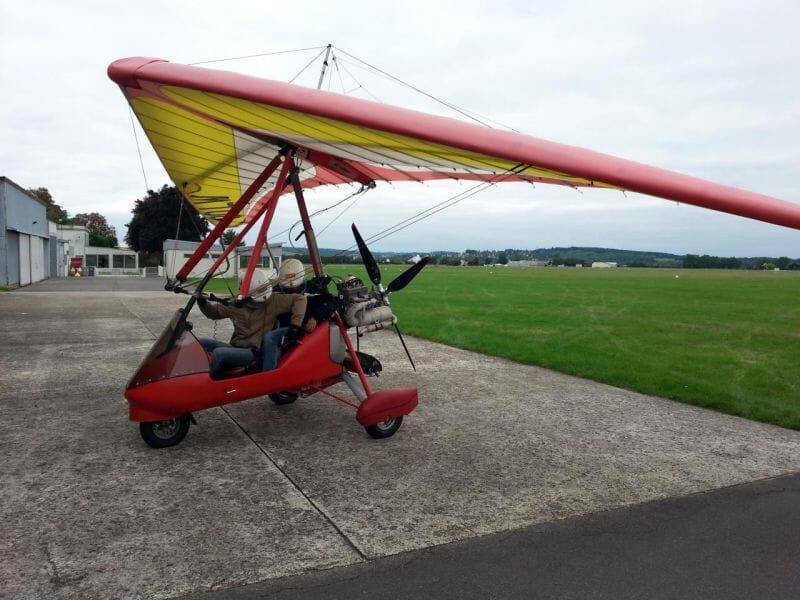Aeronef_de_loisir: (80, 31, 800, 462)
